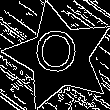O_S: (35, 29, 83, 84)
